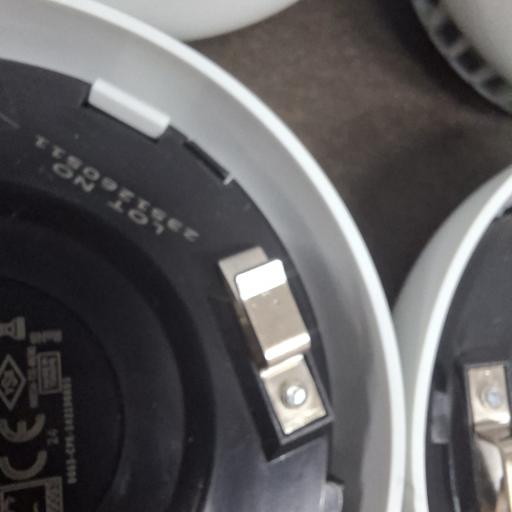yayli: (217, 246, 327, 438)
